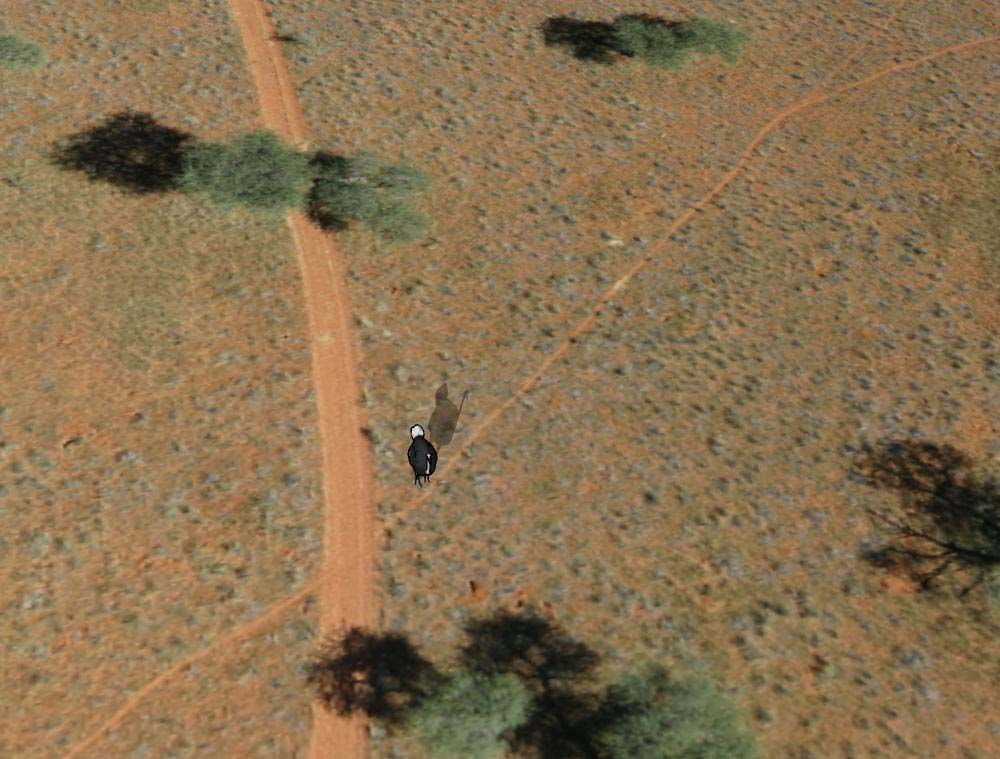ostrich: (401, 422, 442, 490)
